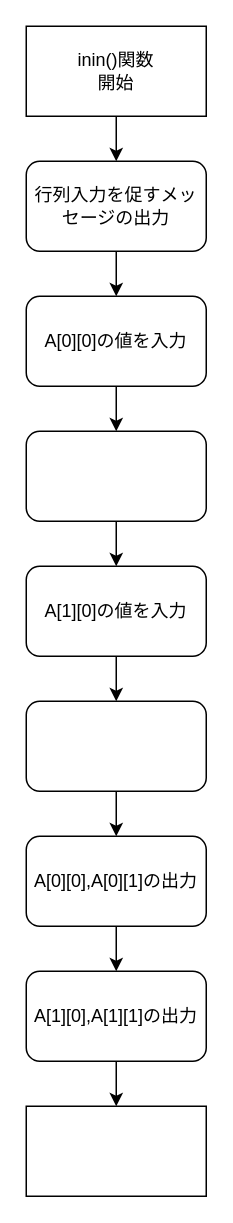
Image size: 233x1223. Some labels were removed from this diagram. Here are the shapes that lost their labels. From the top down, the centre of each, then its label:
the point at 115,475: A[0][1]の値を入力
the point at 115,745: A[1][1]の値を入力
the point at 115,1150: 終了
